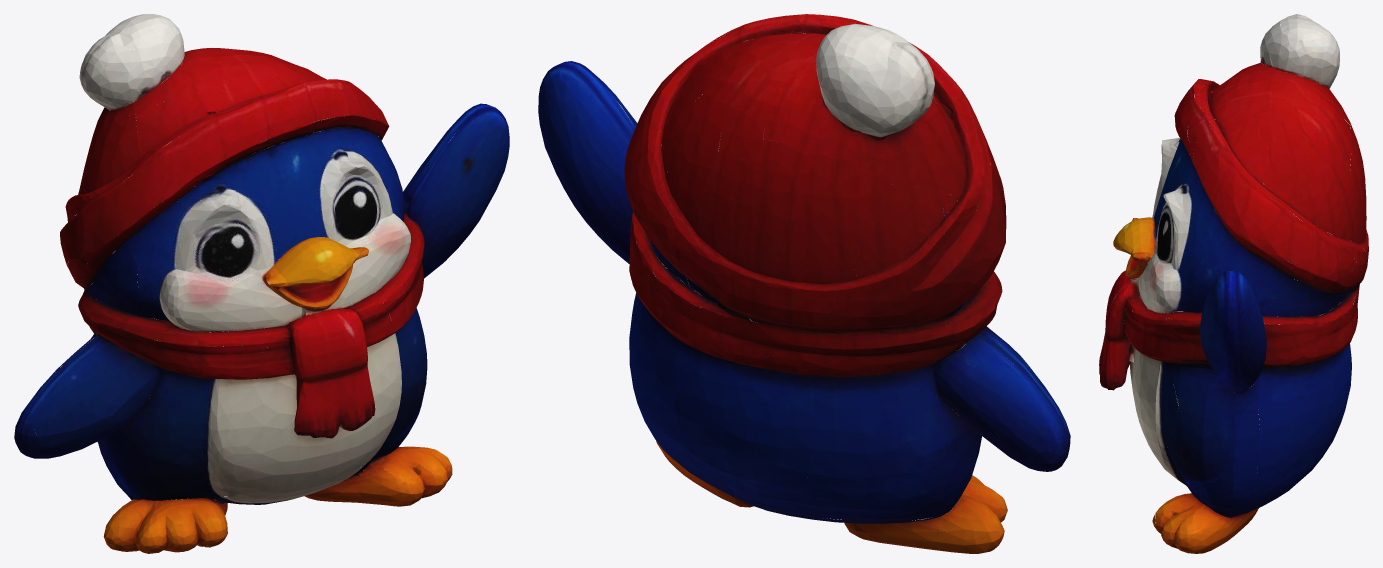
File: char-Peblo.glb
The picture shows the model from 3 angles, left to right: view 1: azimuth 30°, elevation 25°; view 2: azimuth 150°, elevation 25°; view 3: azimuth 270°, elevation 25°; orthographic projection. The views are drawn at different scales.
Visible parts, largest first — view 1: geometry_0.018; view 2: geometry_0.018; view 3: geometry_0.018.
Part boxes in pixels (x1=…): geometry_0.018: x1=14, y1=14, x2=509, y2=553; geometry_0.018: x1=538, y1=14, x2=1070, y2=553; geometry_0.018: x1=1099, y1=14, x2=1368, y2=553.
Size of the model in its own units: 0.9999 by 0.9661 by 0.5399.
Materials: 1 (1 with a texture image).
